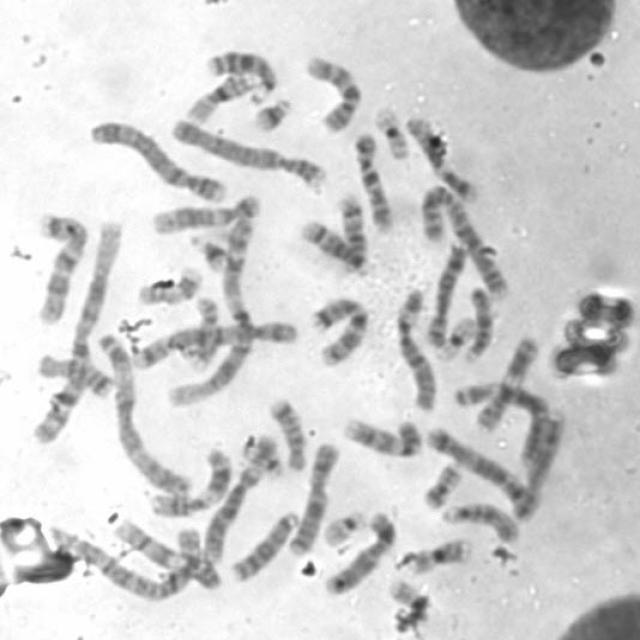A1: (25, 212, 125, 448), (162, 210, 259, 410)
A2: (44, 517, 212, 602), (415, 178, 513, 301)
A3: (92, 327, 191, 498), (449, 376, 552, 472)
B4: (85, 112, 231, 204), (165, 111, 332, 191)
B5: (422, 419, 540, 522), (127, 314, 301, 372)
C10: (299, 48, 366, 135), (348, 124, 396, 233)
C11: (470, 330, 542, 432), (145, 442, 234, 518)
C12: (401, 109, 482, 205), (147, 188, 265, 236)
C6: (198, 430, 278, 563), (392, 281, 441, 414)
C7: (31, 206, 94, 326), (306, 289, 372, 369)
C8: (508, 404, 568, 524), (421, 236, 471, 350)
C9: (109, 514, 224, 592), (337, 411, 424, 460)
D13: (225, 505, 302, 584), (200, 44, 281, 104)
D14: (294, 212, 372, 275), (331, 188, 371, 278)
D15: (436, 494, 524, 544), (459, 280, 497, 365)
E16: (181, 66, 258, 125), (396, 531, 474, 577)
E17: (132, 260, 204, 307), (185, 289, 224, 370)
E18: (32, 346, 116, 401), (262, 392, 308, 472)
F19: (368, 98, 413, 162), (430, 310, 480, 364)
F20: (417, 455, 465, 511), (384, 575, 432, 622)
G21: (186, 228, 232, 274), (246, 91, 295, 134)
G22: (318, 503, 370, 548), (241, 438, 285, 479)
X: (319, 506, 400, 597), (284, 435, 344, 557)
